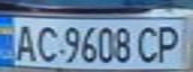0: (97, 24, 118, 64)
6: (78, 24, 100, 64)
8: (112, 24, 136, 64)
9: (60, 24, 81, 64)
A: (9, 20, 39, 63)
C: (133, 22, 163, 64), (33, 22, 60, 63)
P: (151, 22, 187, 63)
